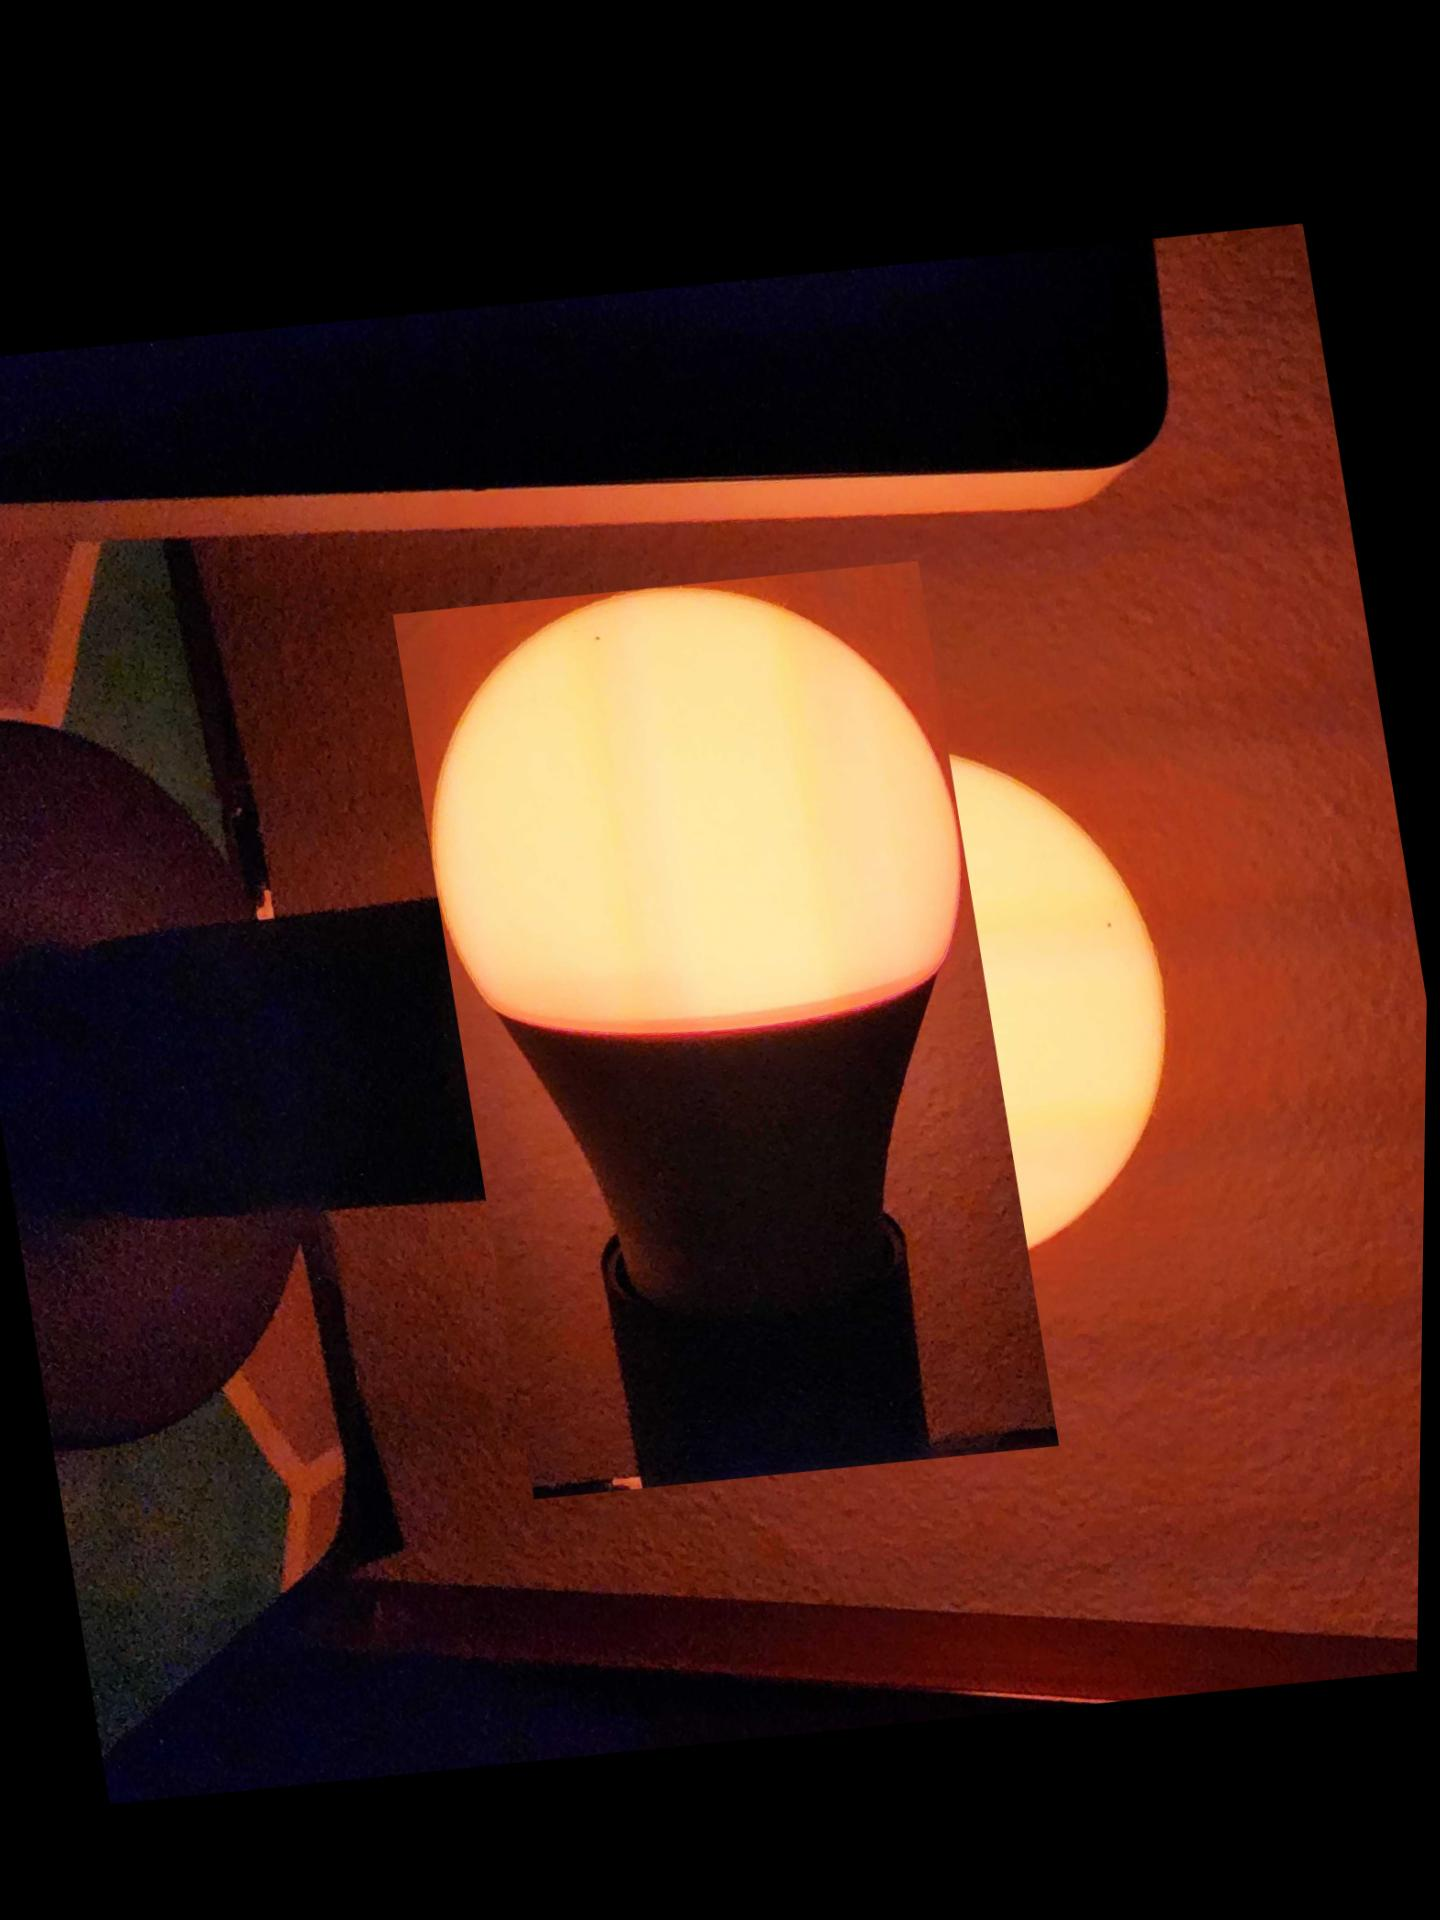TubeLight: (313, 582, 1145, 1453)
